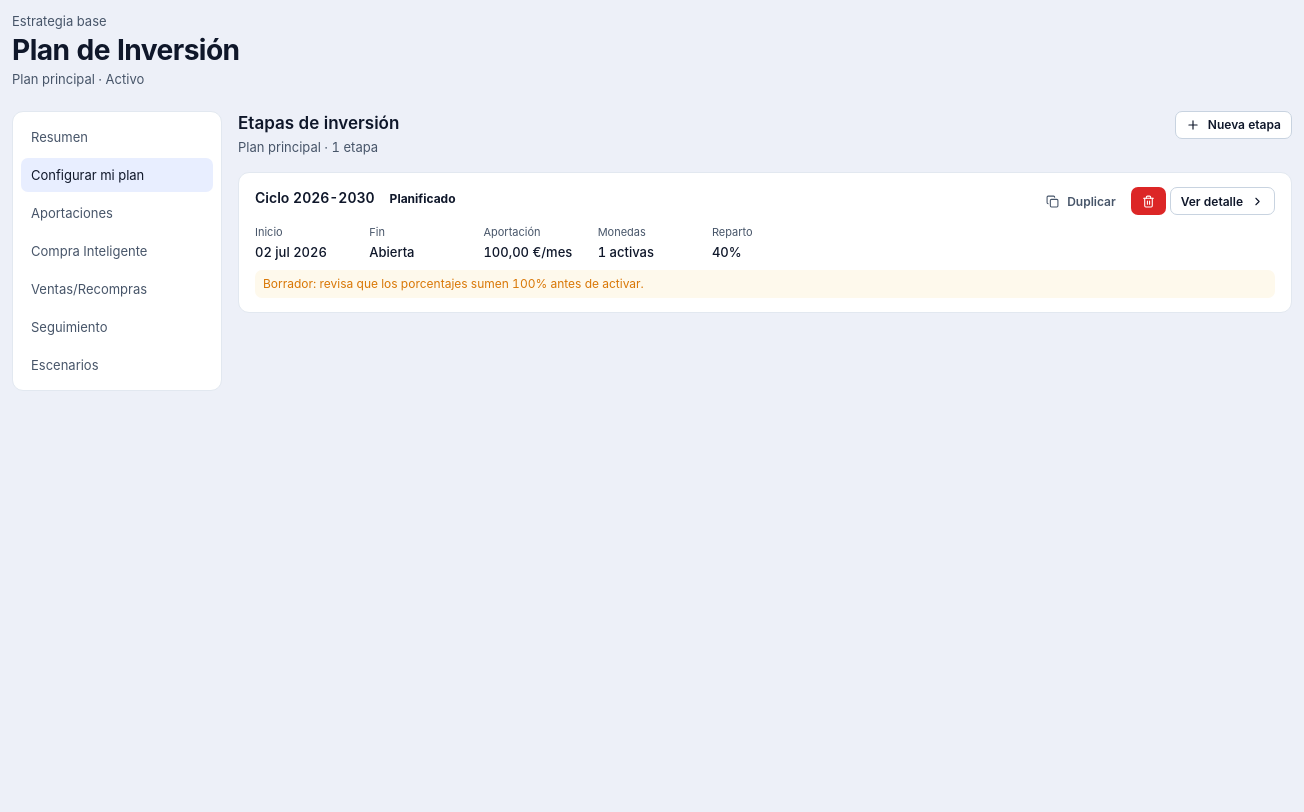
it: PlanConfigurar — lista de etapas › muestra el formulario de nueva etapa al pulsar el botón
Check: the text "Ciclo 2026-2030" is shown, box [255,188,375,209]
Click the button "Nueva etapa". click: {"x": 1233, "y": 125}
box: [1175,111,1292,139]
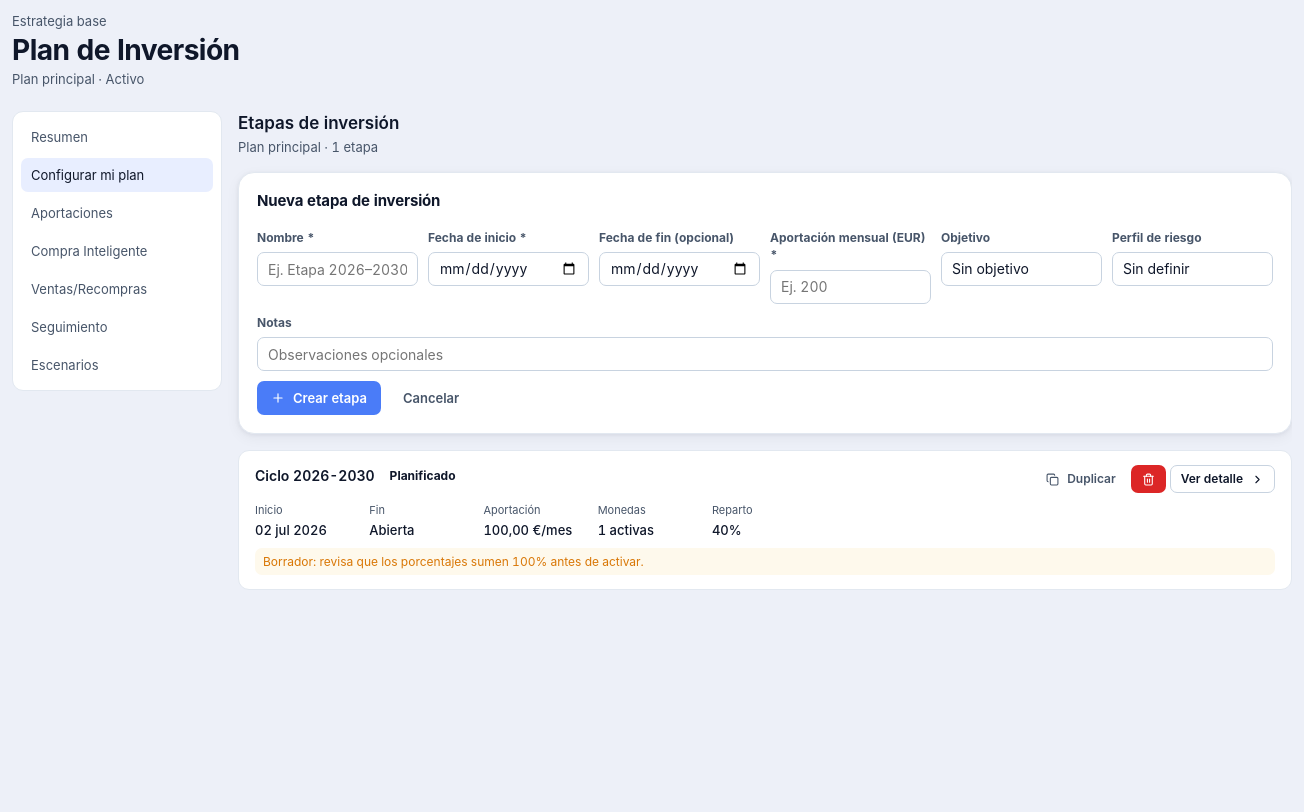
Check: the heading "Nueva etapa de inversión" is shown, box [257,192,440,211]
Check: the button "Crear etapa" is shown, box [257,381,381,415]
